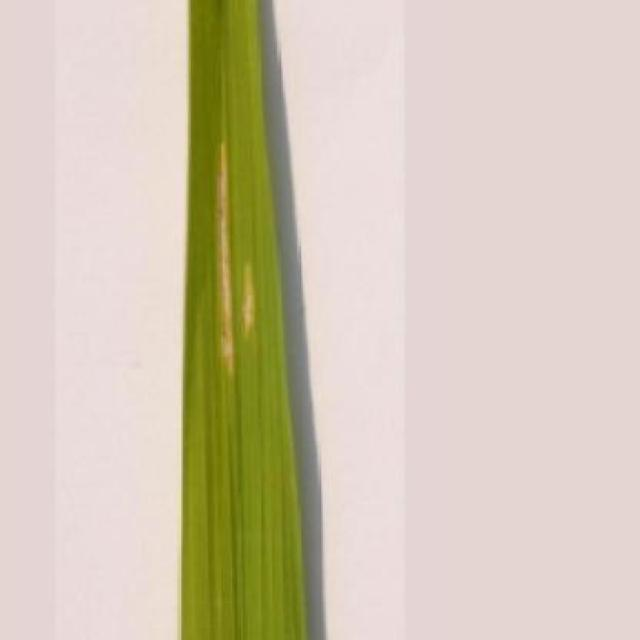Brown_Spot: (174, 0, 314, 640)
